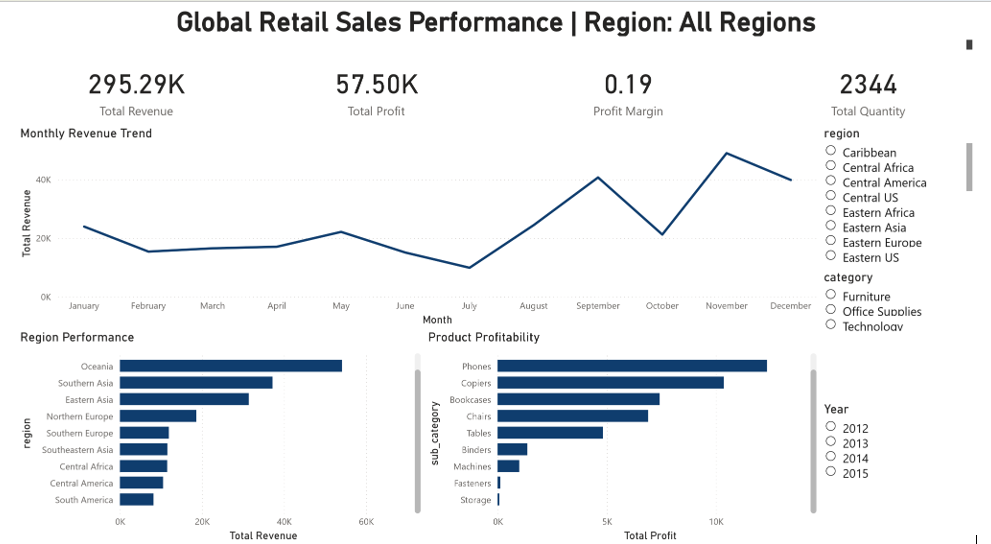

What the dashboard file says about the page in this screenshot:
{"tool":"powerbi","page":{"name":"Page 1","canvas":[1280,720],"ordinal":0},"visuals":[{"type":"card","fields":{"Values":["orders_clean.Total Revenue"]},"box":[0,0,320,160],"z":0},{"type":"card","fields":{"Values":["orders_clean.Profit Margin"]},"box":[640,0,352,160],"z":1000},{"type":"card","fields":{"Values":["orders_clean.Total Profit"]},"box":[320,0,320,160],"z":2000},{"type":"card","fields":{"Values":["orders_clean.Total Quantity"]},"box":[992,0,288,160],"z":3000},{"type":"lineChart","title":"Monthly Revenue Trend","fields":{"Category":["orders_clean.order_date.Variation.Date Hierarchy.Month"],"Y":["orders_clean.Total Revenue"]},"box":[0,160,1072,272],"z":4000},{"type":"barChart","title":"Region Performance","fields":{"Y":["orders_clean.Total Revenue"],"Category":["orders_clean.region"]},"box":[0,432,544,288],"z":5000},{"type":"barChart","title":"Product Profitability","fields":{"Y":["orders_clean.Total Profit"],"Category":["products.sub_category"]},"box":[544,432,528,288],"z":6000},{"type":"listSlicer","fields":{"Values":["orders_clean.region"]},"box":[1072,160,208,192],"z":7000},{"type":"listSlicer","fields":{"Values":["products.category"]},"box":[1072,352,208,192],"z":8000},{"type":"listSlicer","fields":{"Values":["orders_clean.order_date.Variation.Date Hierarchy.Year"]},"box":[1072,544,208,176],"z":9000}]}

Visuals, with their boxes in screenshot pixels (x1, y1, x2, y2), scaled from the page's 1280x720 canvas onto the 991x544 screenshot:
card - orders_clean.Total Revenue: 0:0:248:121
card - orders_clean.Profit Margin: 496:0:768:121
card - orders_clean.Total Profit: 248:0:496:121
card - orders_clean.Total Quantity: 768:0:990:121
"Monthly Revenue Trend" lineChart: 0:121:830:326
"Region Performance" barChart: 0:326:421:543
"Product Profitability" barChart: 421:326:830:543
listSlicer - orders_clean.region: 830:121:990:266
listSlicer - products.category: 830:266:990:411
listSlicer - orders_clean.order_date.Variation.Date Hierarchy.Year: 830:411:990:543
